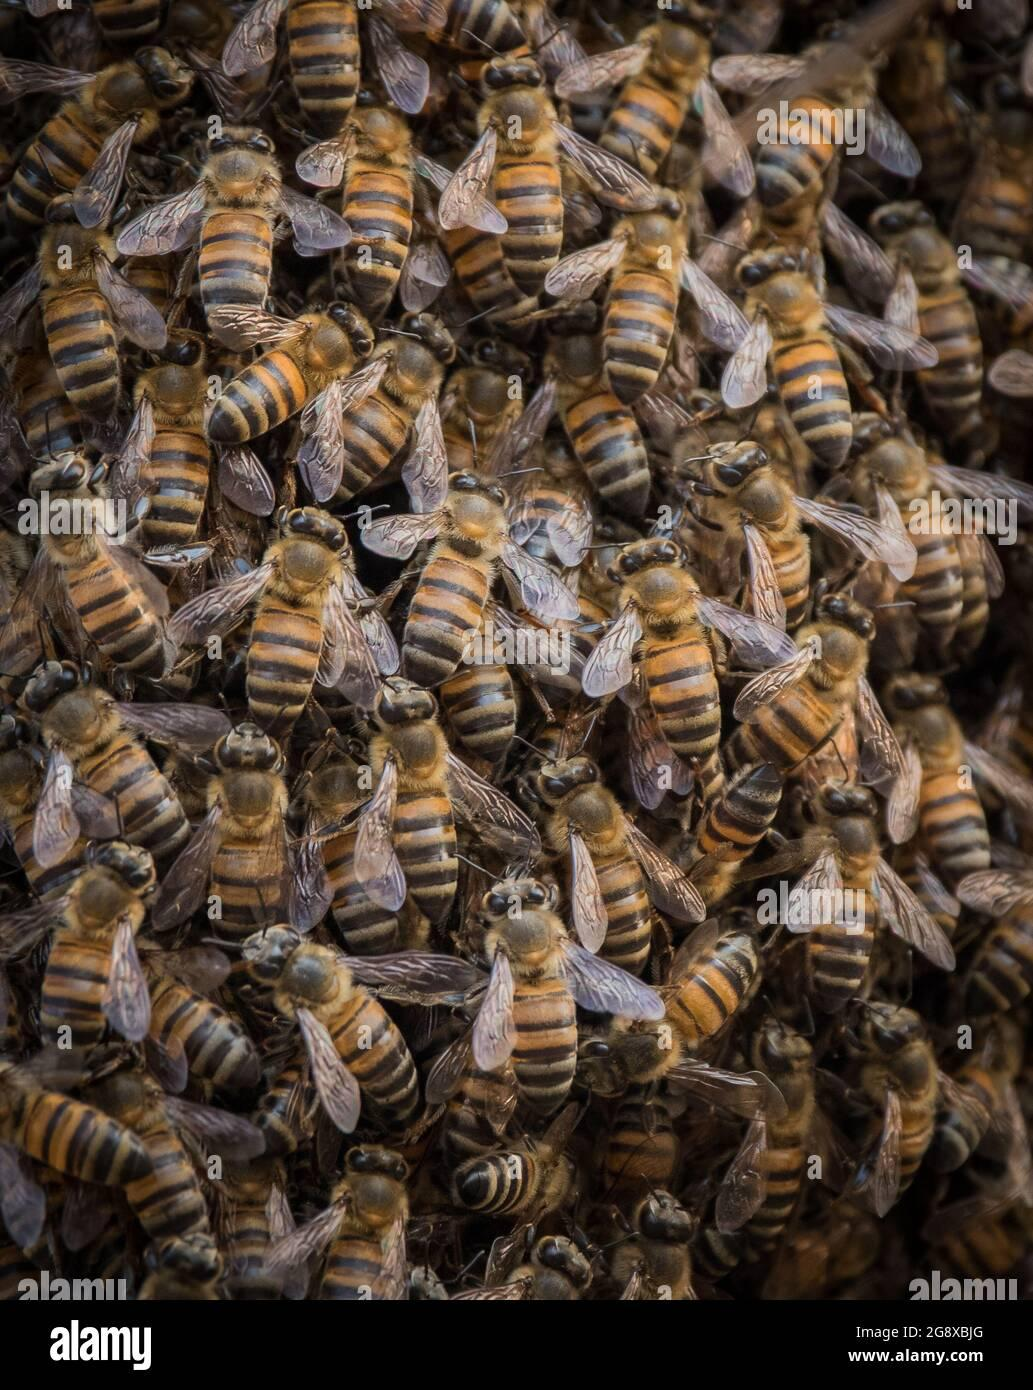Apis-mellifera-scutellata: (17, 642, 234, 877), (11, 436, 207, 693), (829, 395, 1004, 671), (566, 903, 782, 1112), (843, 193, 1017, 442), (90, 1007, 245, 1263), (716, 577, 894, 796), (264, 906, 424, 1146), (720, 239, 887, 467), (25, 816, 175, 1064), (422, 466, 536, 790), (456, 50, 595, 308), (296, 700, 442, 944), (469, 852, 596, 1125), (800, 778, 927, 1037), (720, 992, 841, 1264), (15, 195, 158, 423), (7, 39, 178, 226), (837, 986, 957, 1250), (189, 302, 384, 463), (115, 327, 243, 566), (361, 668, 480, 922), (143, 945, 295, 1136), (888, 668, 1010, 905), (535, 357, 698, 531), (313, 88, 429, 319), (177, 118, 295, 344), (279, 1146, 448, 1293), (331, 306, 457, 503), (581, 203, 701, 401), (919, 992, 1026, 1208), (747, 26, 867, 216), (14, 1034, 163, 1187), (590, 1175, 722, 1329), (596, 5, 687, 209), (429, 323, 530, 487), (454, 1122, 578, 1237), (470, 1220, 598, 1326), (278, 0, 365, 142)
